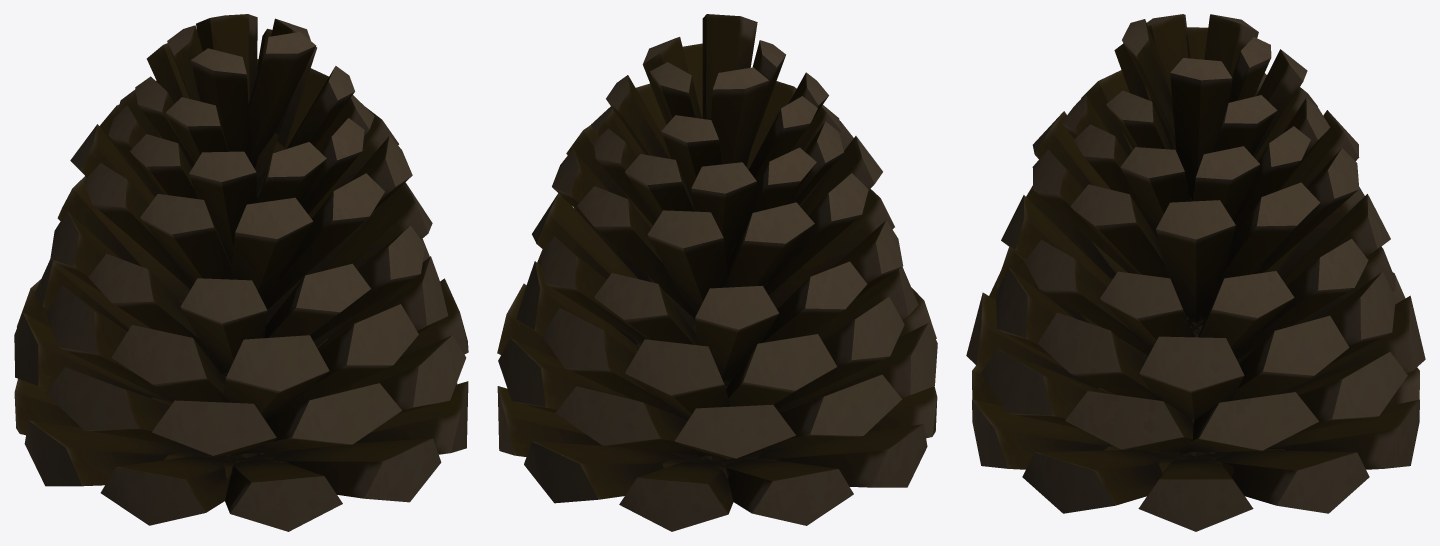
Rendered from pine-cone-c.glb.
The picture shows the model from 3 angles, left to right: view 1: azimuth 30°, elevation 25°; view 2: azimuth 150°, elevation 25°; view 3: azimuth 270°, elevation 25°; orthographic projection. The views are drawn at different scales.
Parts seen in each view (by area): view 1: PineCone_mesh; view 2: PineCone_mesh; view 3: PineCone_mesh.
Part boxes in pixels (left/top/right/bottom): PineCone_mesh: left=14, top=14, right=468, bottom=531; PineCone_mesh: left=497, top=14, right=937, bottom=531; PineCone_mesh: left=966, top=14, right=1425, bottom=531.
Size of the model in its own units: 8.12 by 8.98 by 8.2.
Materials: 1 (1 with a texture image).
